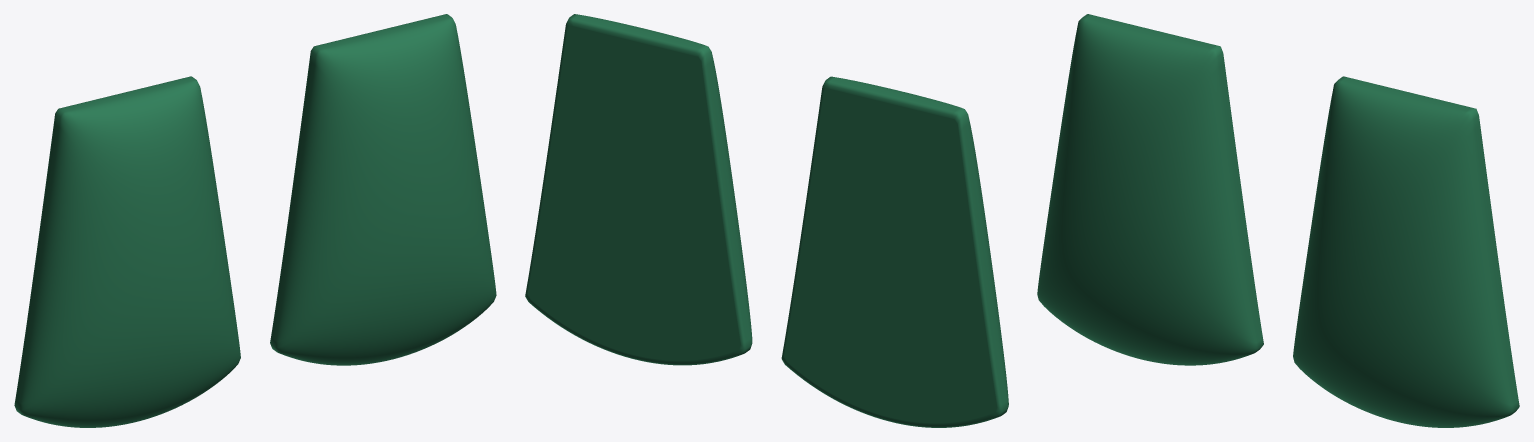
File: matched-pair-v1.glb
The picture shows the model from 3 angles, left to right: view 1: azimuth 30°, elevation 25°; view 2: azimuth 150°, elevation 25°; view 3: azimuth 330°, elevation 25°; orthographic projection.
Visible parts, largest first — view 1: Keystone Cabochon 21x15x4mm.001, Keystone Cabochon 21x15x4mm; view 2: Keystone Cabochon 21x15x4mm.001, Keystone Cabochon 21x15x4mm; view 3: Keystone Cabochon 21x15x4mm, Keystone Cabochon 21x15x4mm.001.
Part boxes in pixels (left/top/right/bottom): Keystone Cabochon 21x15x4mm.001: left=270, top=14, right=496, bottom=365; Keystone Cabochon 21x15x4mm: left=14, top=76, right=240, bottom=427; Keystone Cabochon 21x15x4mm.001: left=525, top=14, right=752, bottom=365; Keystone Cabochon 21x15x4mm: left=781, top=76, right=1008, bottom=427; Keystone Cabochon 21x15x4mm: left=1037, top=14, right=1263, bottom=365; Keystone Cabochon 21x15x4mm.001: left=1293, top=76, right=1519, bottom=427.
Bounding box in the file's own units: 0.0322 × 0.021 × 0.00398.
